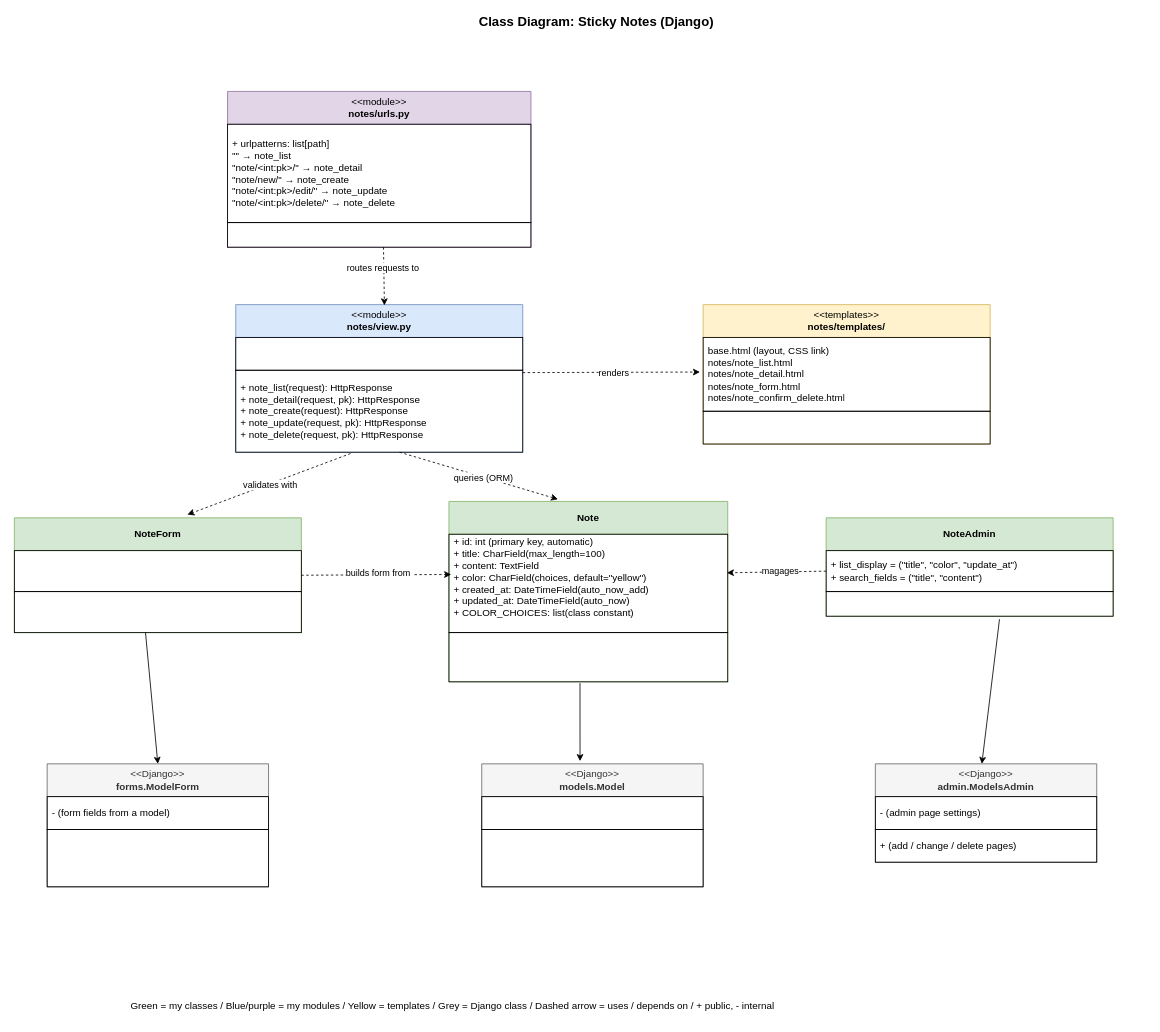
This 1160x1032 diagram has some shape labels left out. The centre of each missing label's shape, as x and y in pixels:
(all methods inherited): (969,603)
(each page {% extends "base.html" %}): (846,427)
+ __str__(): str Meta: ordering = ["-update_at"]: (588,657)
+ is_valid(): bool (inherited) + save(): Note (inherited): (157,612)
+ is_valid(): bool + save(): Model + errors: dict: (157,858)
+ Meta.model = Note + Meta.fields = ["title", "content", "color"]: (157,571)
+ save(): None + delete(): None + objects: Manager: (592,858)
- (database fields and ORM): (592,812)
